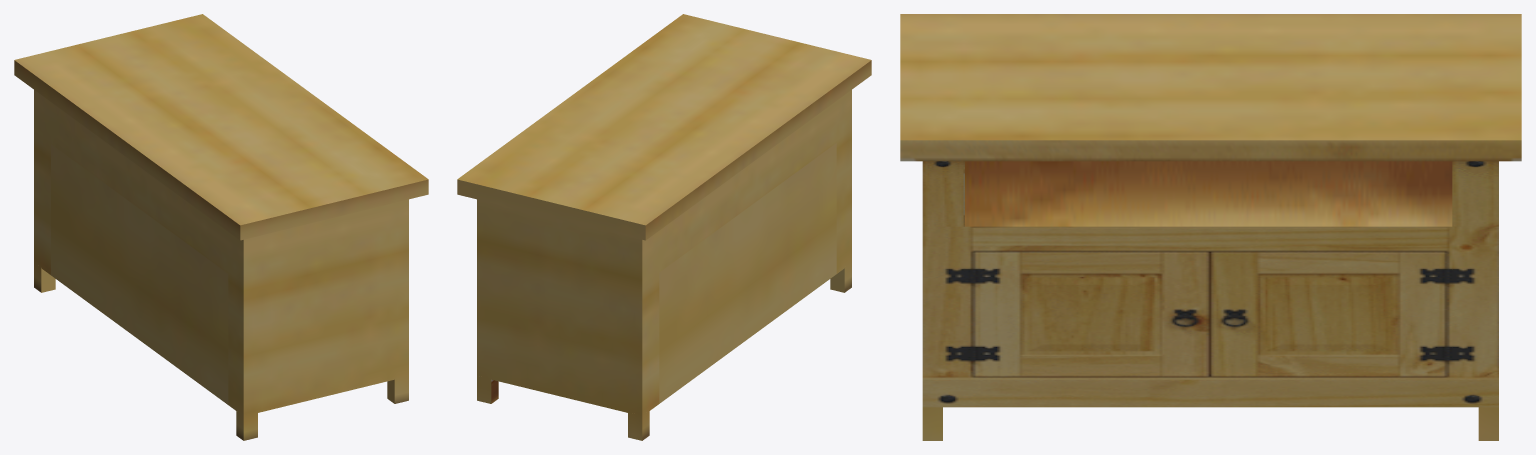
The model's file is TVStand.fbx.
3 renders of one model, left to right at view 1: azimuth 30°, elevation 25°; view 2: azimuth 150°, elevation 25°; view 3: azimuth 270°, elevation 25°, orthographic. The views are drawn at different scales.
Parts seen in each view (by area): view 1: Cube.001; view 2: Cube.001; view 3: Cube.001.
Boxes of the visible parts, box(x1,y1,x2,y2) form: Cube.001: box(14, 14, 428, 440); Cube.001: box(457, 14, 871, 440); Cube.001: box(900, 14, 1521, 440).
Bounding box in the file's own units: 321 × 365 × 666.
